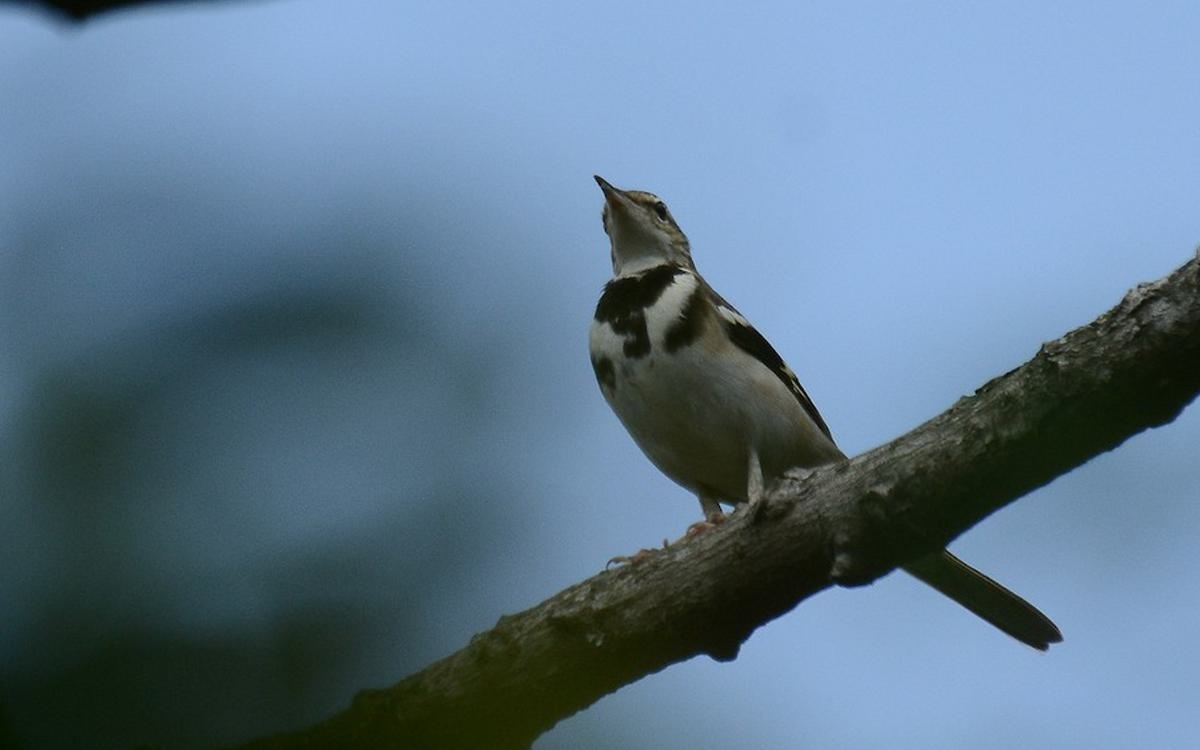wagtail: (541, 147, 1038, 623)
